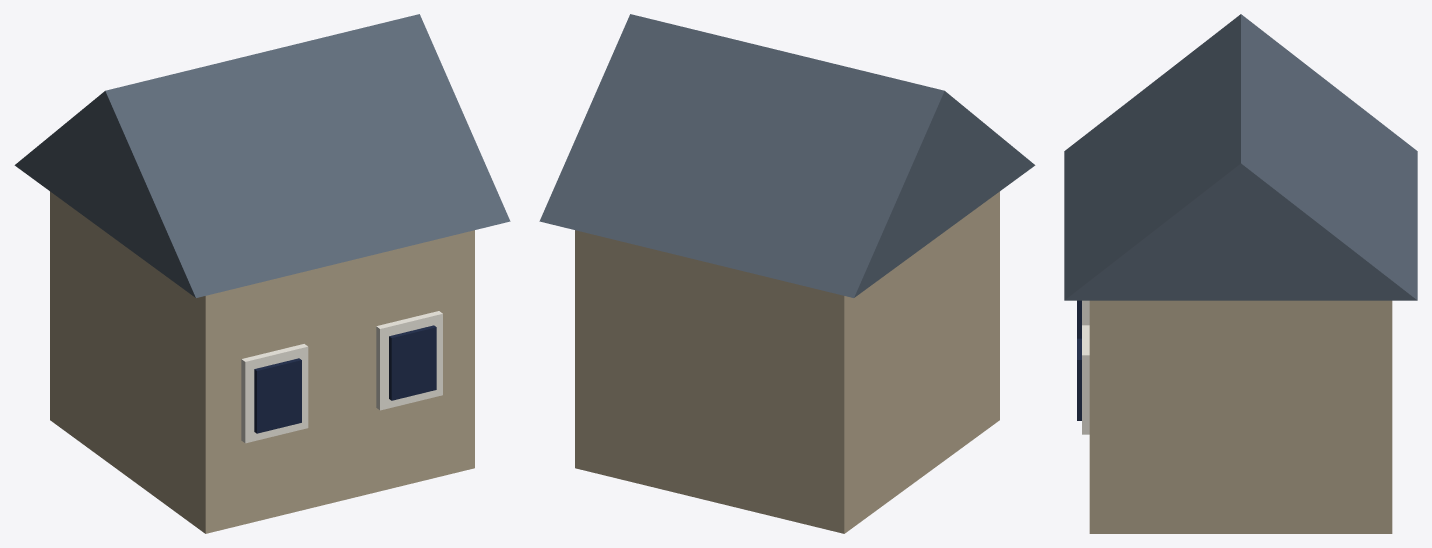
File: dom_fr_1.glb
3 views of the same model, side by side, from view 1: azimuth 30°, elevation 25°; view 2: azimuth 150°, elevation 25°; view 3: azimuth 270°, elevation 25° (orthographic). The views are drawn at different scales.
Parts seen in each view (by area): view 1: dom_fr_1; view 2: dom_fr_1; view 3: dom_fr_1.
Part boxes in pixels (x1=…): dom_fr_1: x1=14, y1=14, x2=510, y2=533; dom_fr_1: x1=539, y1=14, x2=1035, y2=533; dom_fr_1: x1=1064, y1=14, x2=1417, y2=533.
Size of the model in its own units: 2.1 by 2.5 by 2.1.
